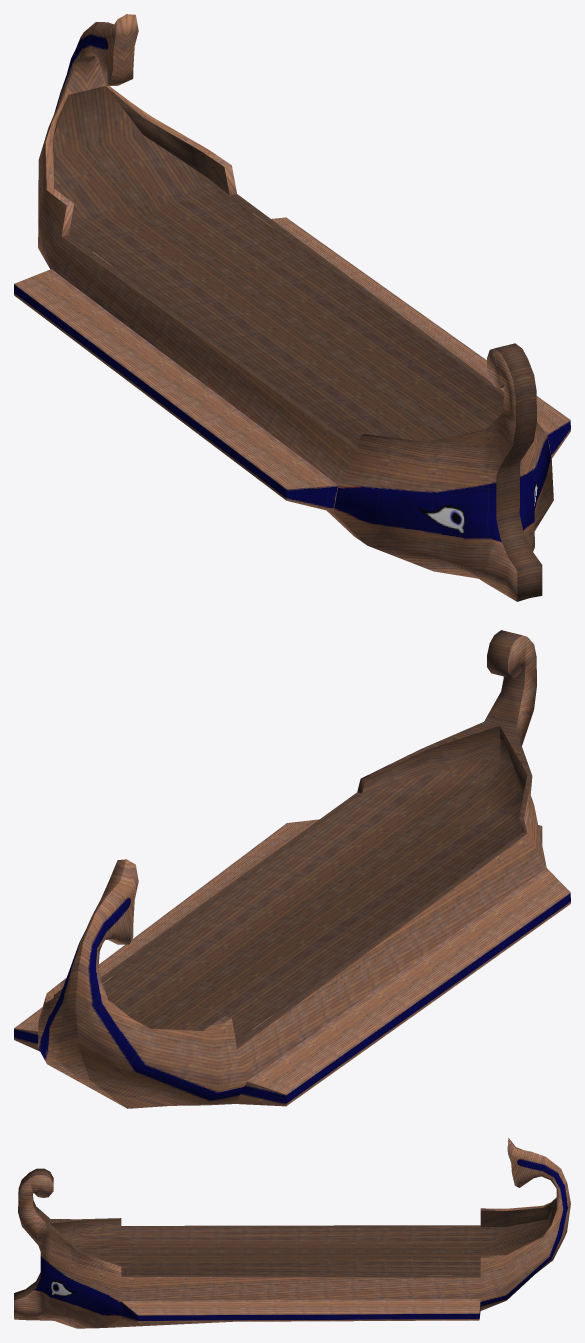
Rendered from HQBireme2.fbx.
3 views of the same model, one above another, from view 1: azimuth 30°, elevation 25°; view 2: azimuth 150°, elevation 25°; view 3: azimuth 270°, elevation 25° (orthographic). The views are drawn at different scales.
Visible parts, largest first — view 1: HullModel; view 2: HullModel; view 3: HullModel.
Part boxes in pixels (box(x1,y1,x2,y2)): HullModel: box(14, 14, 570, 601); HullModel: box(14, 630, 570, 1108); HullModel: box(14, 1138, 570, 1328).
Bounding box in the file's own units: 5.38 × 14.88 × 5.25.
1 material, 1 textured.
